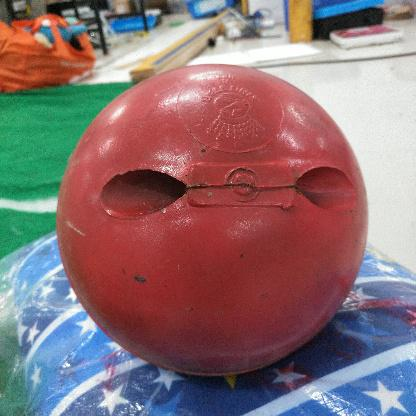red_buoy: (55, 62, 368, 379)
